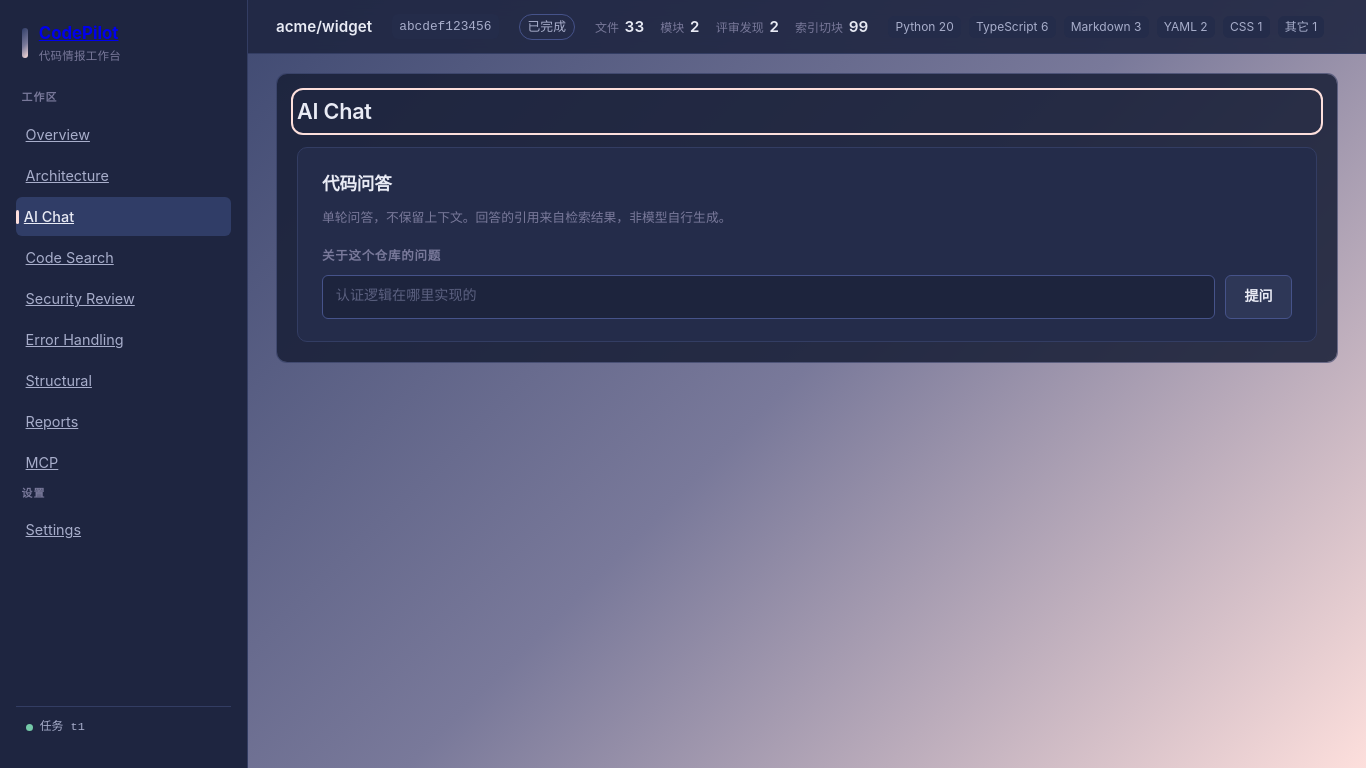
Test case: AI Chat（AE-20） › 分析未完成时呈现「分析尚未完成」而非通用错误
expect the heading "代码问答" is shown: met, box [322,173,392,194]
Type "怎么校验" into the field labelled "关于这个仓库的问题" at x=769, y=297, box [322,275,1216,319]
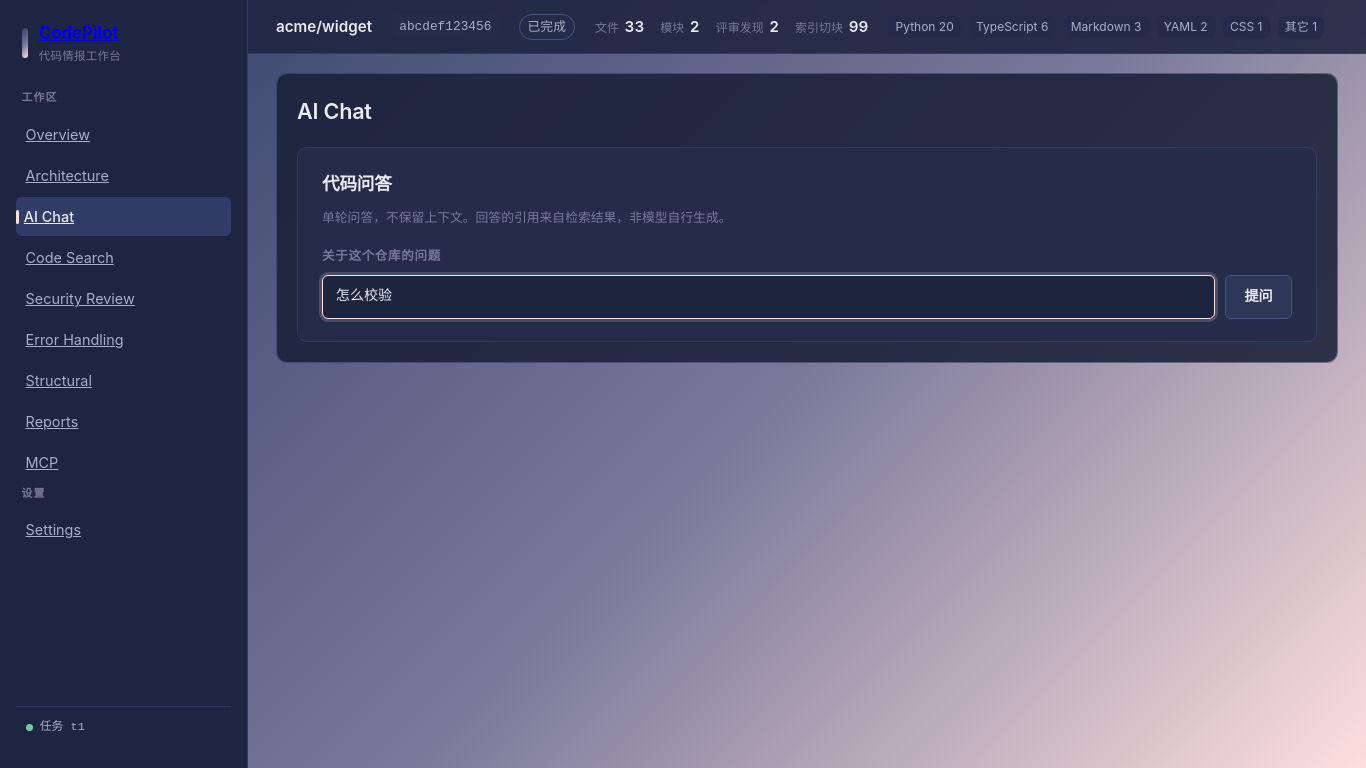
Click the button "提问" at x=1258, y=297, box [1225,275,1292,319]
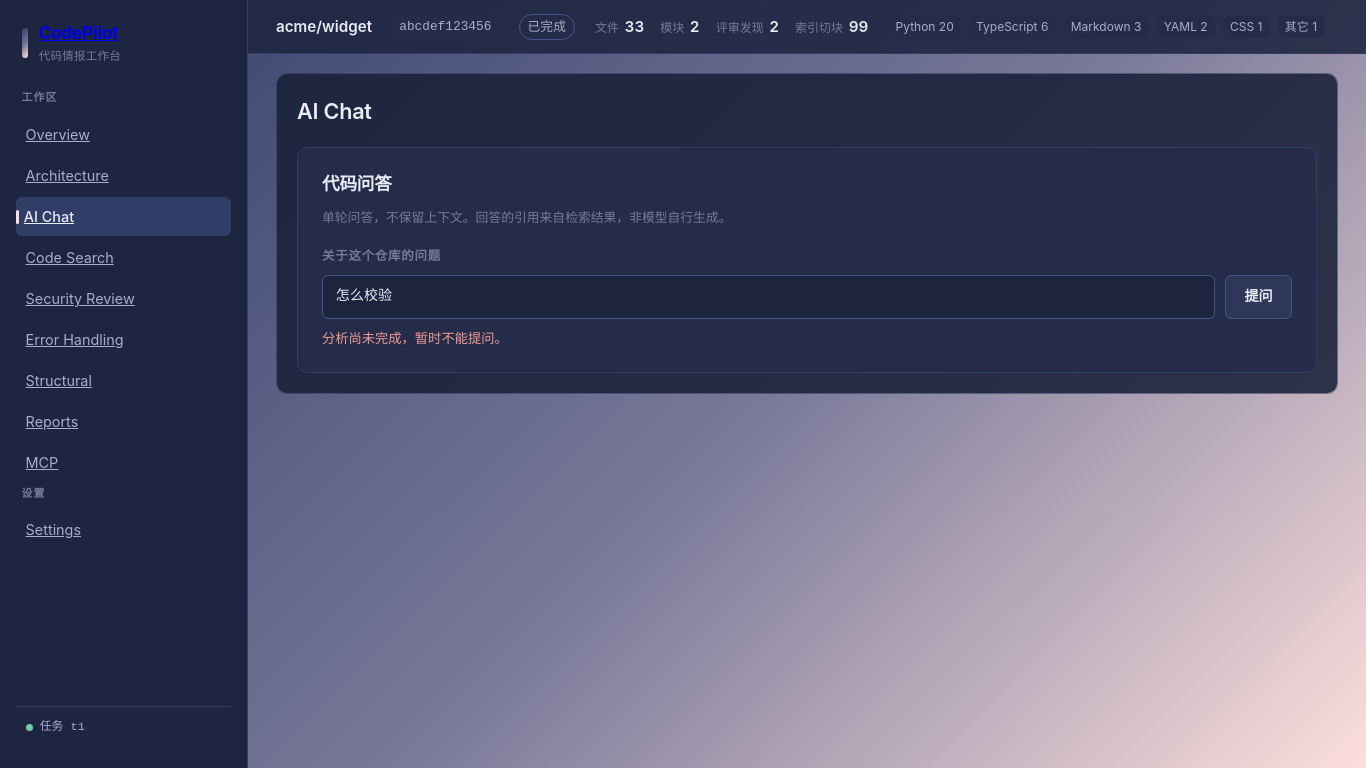
expect the text "分析尚未完成，暂时不能提问。" is shown: met, box [322,330,508,346]
